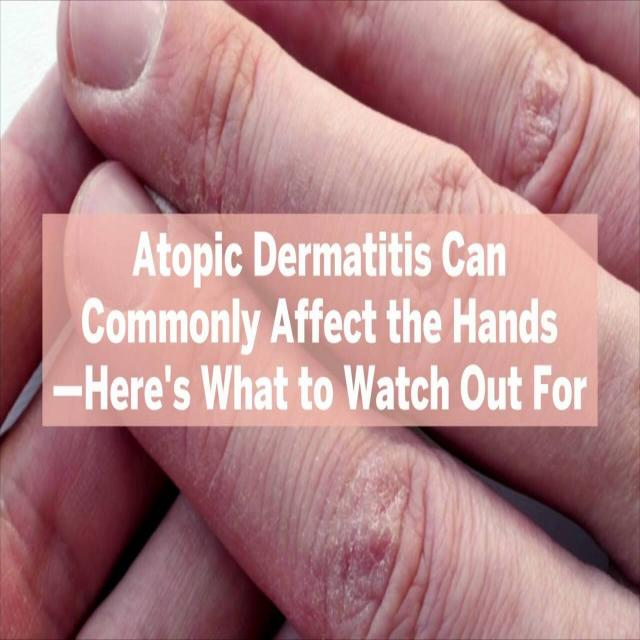eczema: (320, 450, 404, 626), (164, 142, 360, 212), (490, 37, 560, 170)
